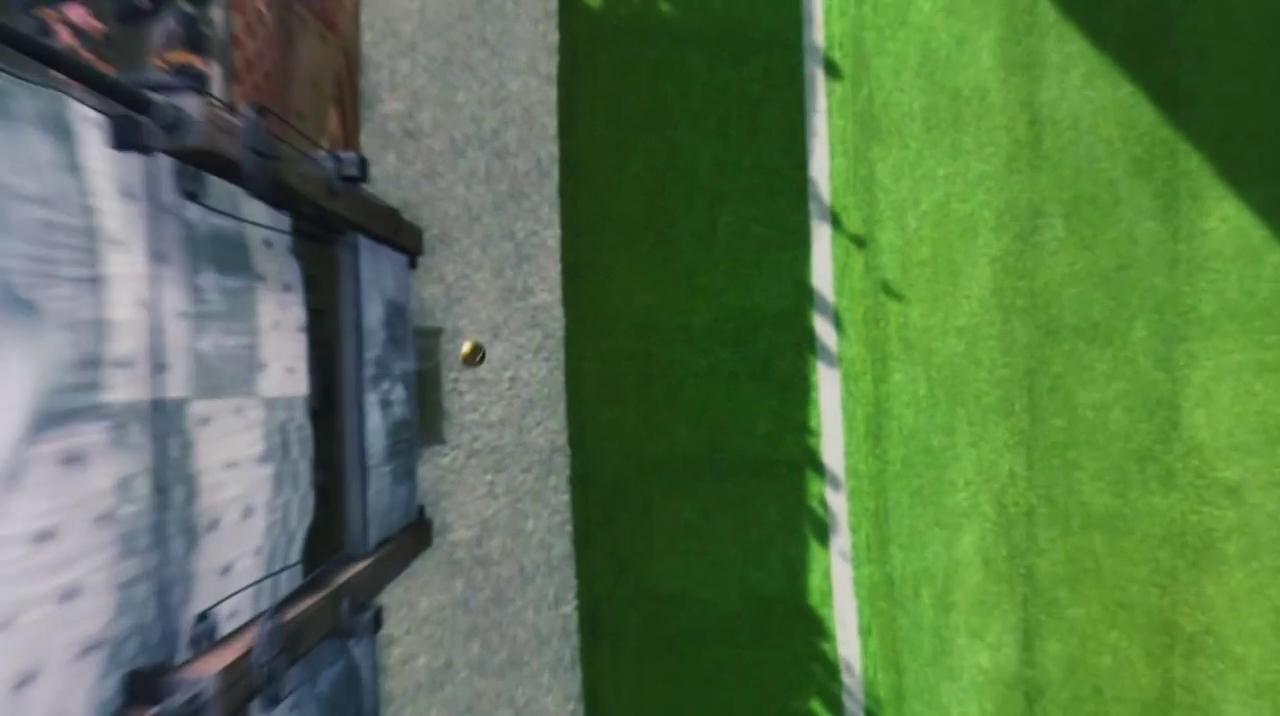snitch: (457, 338, 490, 369)
